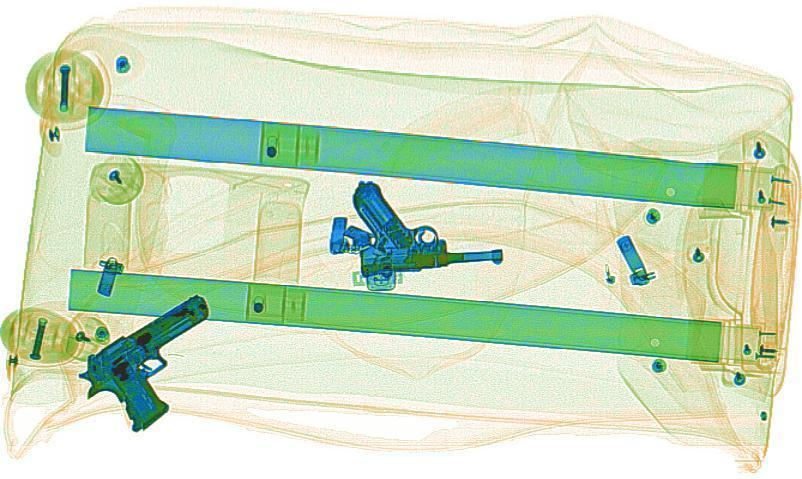Gun: (39, 291, 291, 434), (338, 173, 504, 275)
